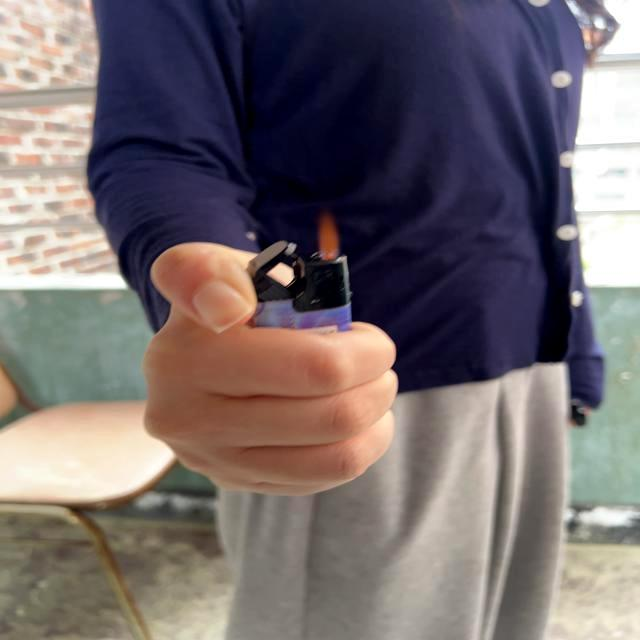fire: (314, 210, 344, 262)
